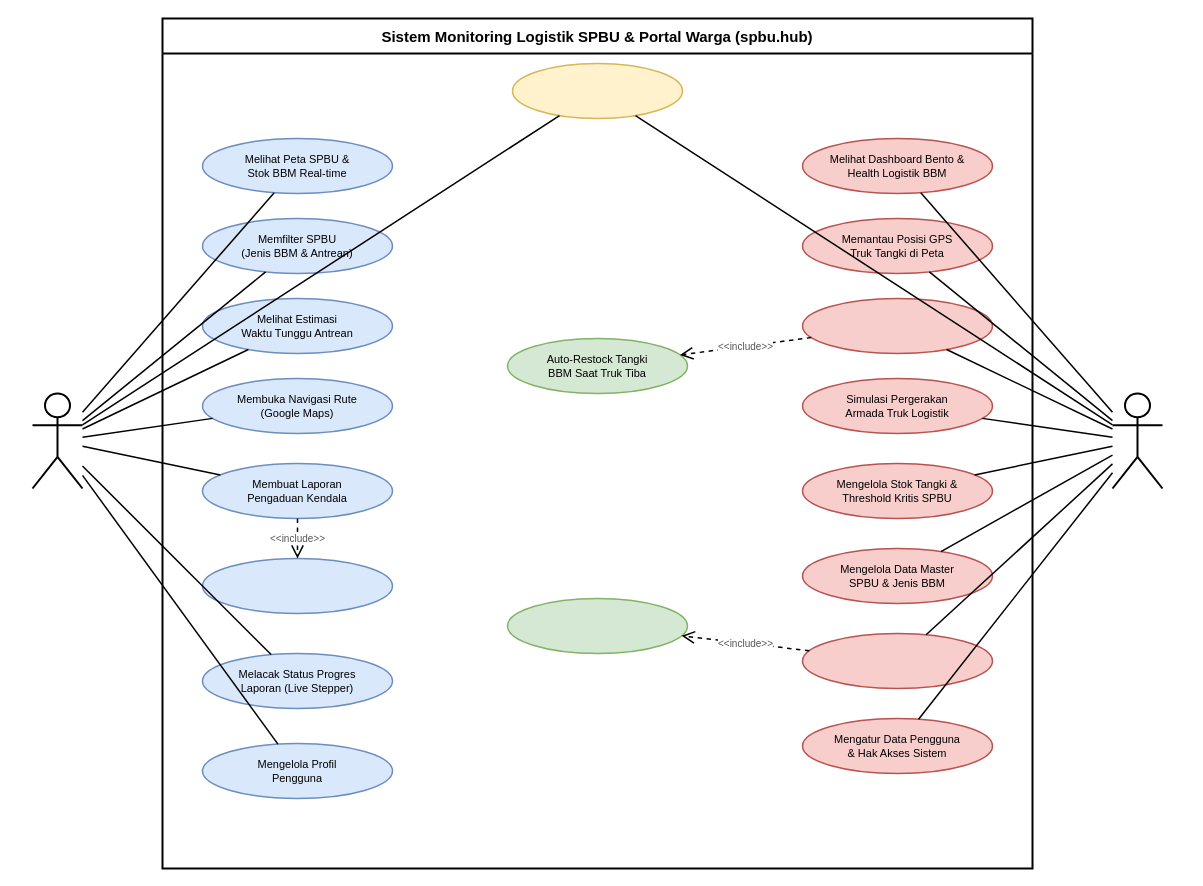
The diagram is 1203 pixels wide and 886 high, and some of its shapes have lost their labels. The shapes that lost their labels are listed below. From the top down, each one's box as (x1, y1, x2, y2) in pixels, then its label:
(511, 62, 683, 119): Login Sistem
(801, 297, 993, 354): Menjadwalkan Pengiriman BBM ke SPBU
(31, 392, 83, 489): User (Masyarakat)
(1111, 392, 1163, 489): Admin (Logistik Pusat)
(201, 557, 393, 614): Mengunggah Foto Bukti Kejadian
(506, 597, 688, 654): Melihat Bukti Foto & Detail Pengaduan
(801, 632, 993, 689): Memverifikasi & Memberi Tindak Lanjut Laporan
